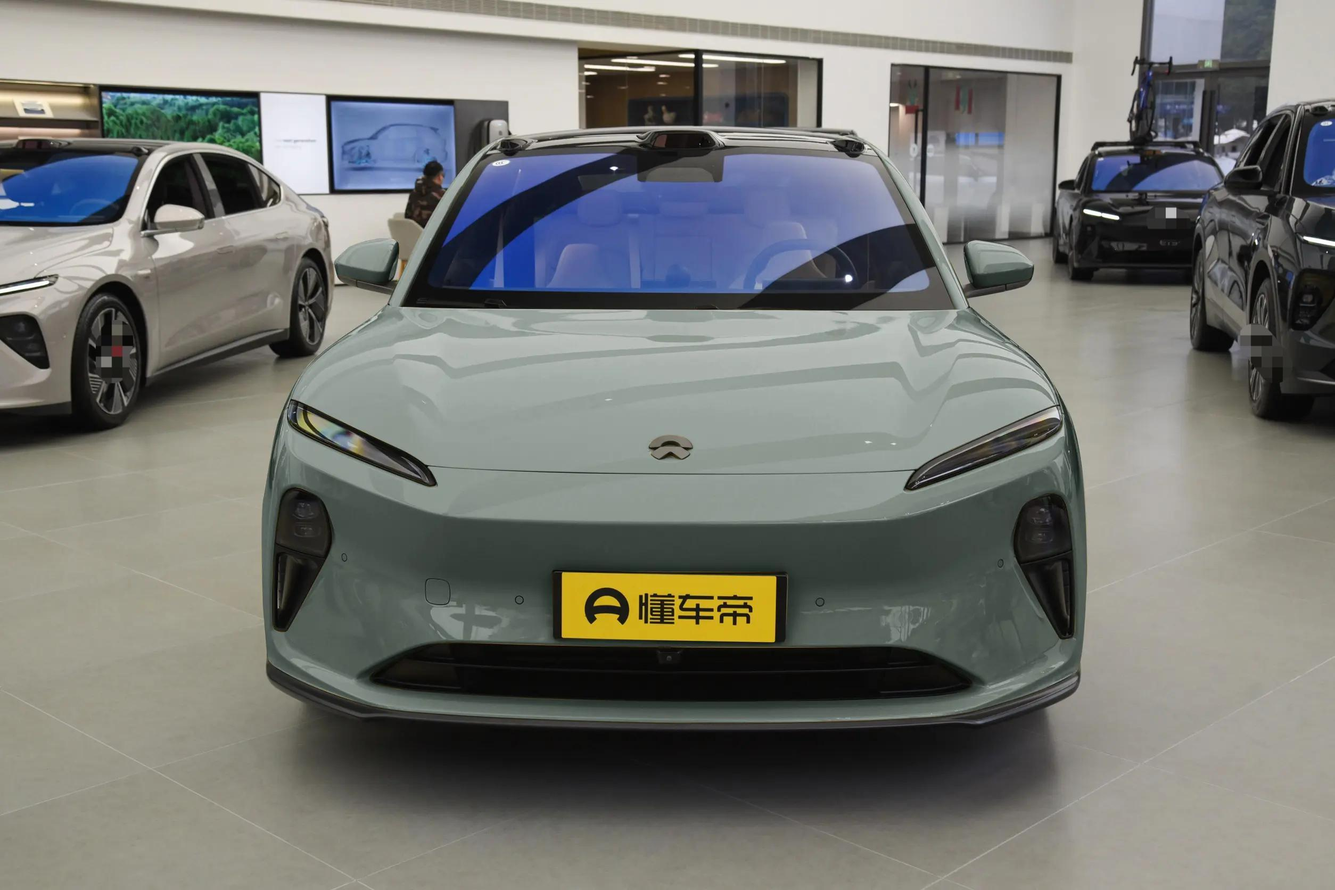NIO: (649, 436, 693, 460)
